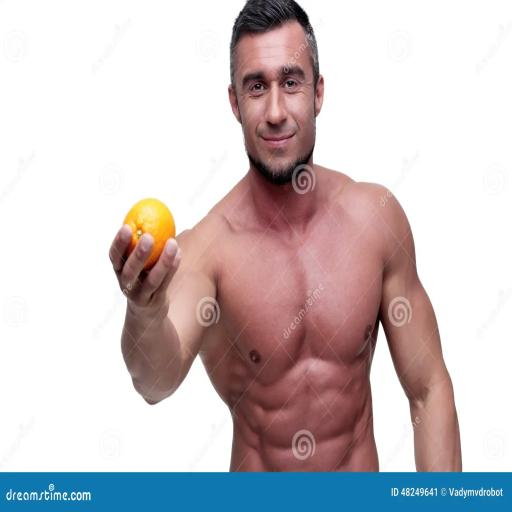orange: (124, 199, 175, 271)
